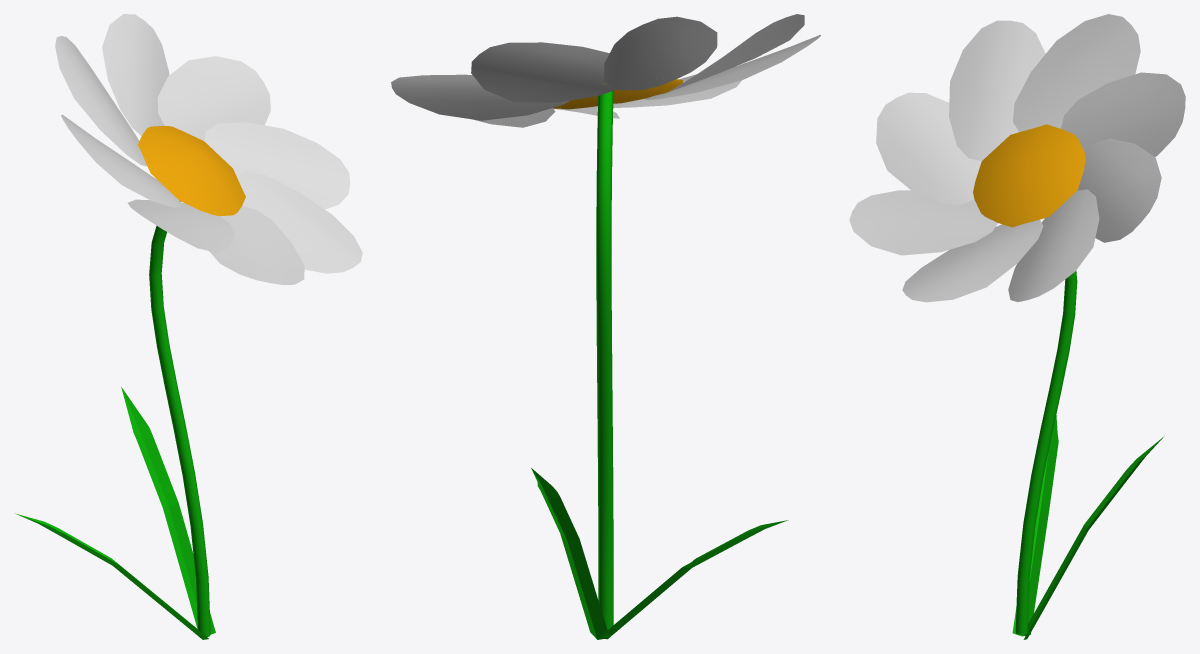
The model's file is light blue flower.fbx.
3 renders of one model, left to right at view 1: azimuth 30°, elevation 25°; view 2: azimuth 150°, elevation 25°; view 3: azimuth 270°, elevation 25°, orthographic. The views are drawn at different scales.
Visible parts, largest first — view 1: blue flower.001; view 2: blue flower.001; view 3: blue flower.001.
Boxes of the visible parts, x1,y1,x2,y2 form: blue flower.001: (15,14,362,639); blue flower.001: (391,14,820,639); blue flower.001: (849,14,1185,639).
Bounding box in the file's own units: 581 × 1000 × 531.
